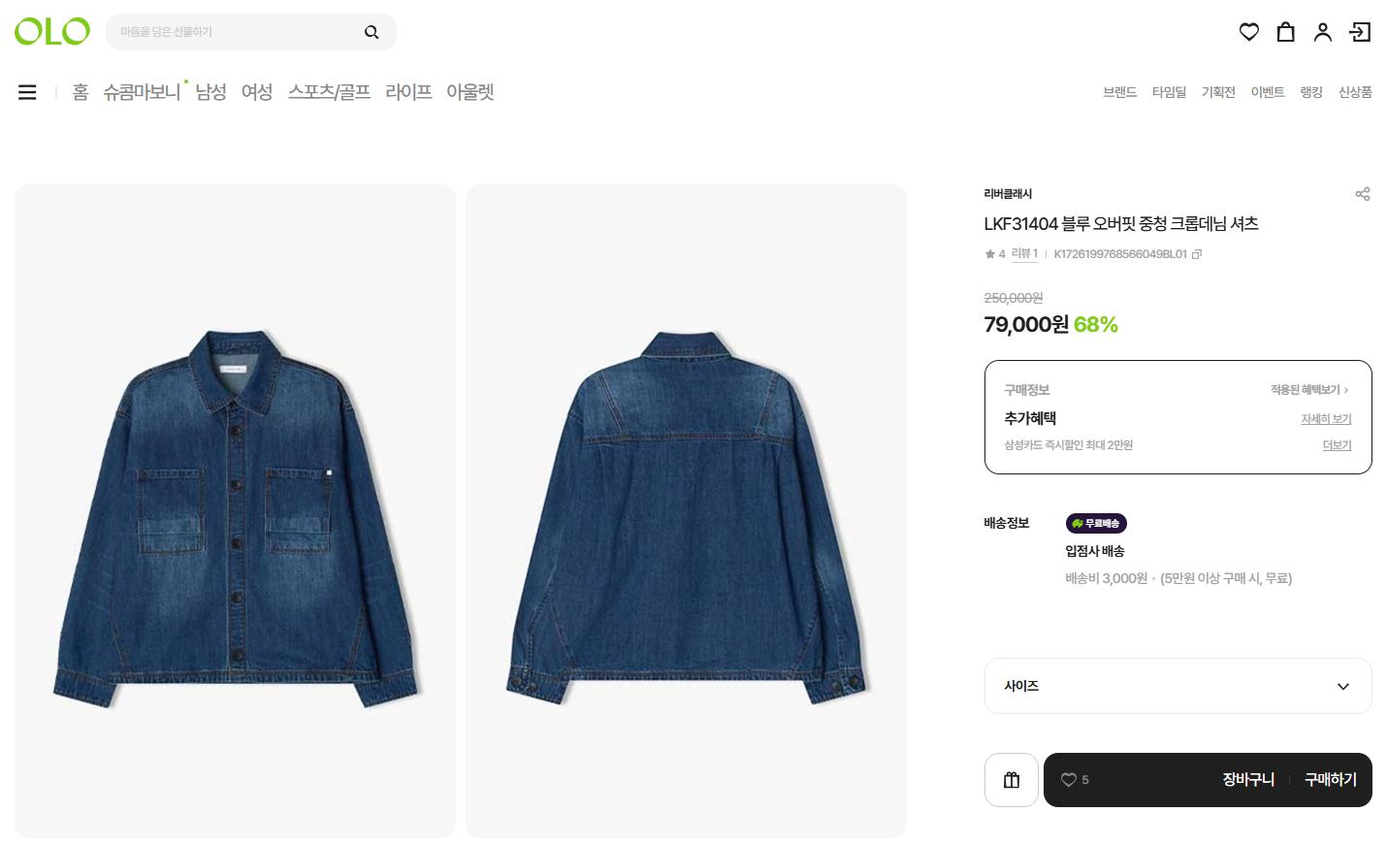button: (1048, 754, 1374, 812), (282, 74, 386, 113), (108, 70, 189, 112), (986, 758, 1045, 813), (444, 74, 509, 106), (384, 75, 438, 104), (1267, 381, 1353, 399), (61, 70, 99, 107), (196, 80, 238, 110), (1097, 79, 1151, 102), (245, 73, 280, 108), (1228, 21, 1267, 50), (1269, 18, 1301, 51), (1155, 84, 1194, 108), (1245, 84, 1288, 103), (1349, 179, 1380, 205), (1311, 21, 1341, 47), (1348, 19, 1374, 47), (1296, 82, 1329, 103), (1300, 409, 1349, 423), (1203, 79, 1232, 102), (1341, 85, 1380, 102), (1320, 438, 1358, 450)
checkbox: (987, 651, 1369, 715), (10, 76, 44, 113)
input_field: (104, 13, 399, 53)
